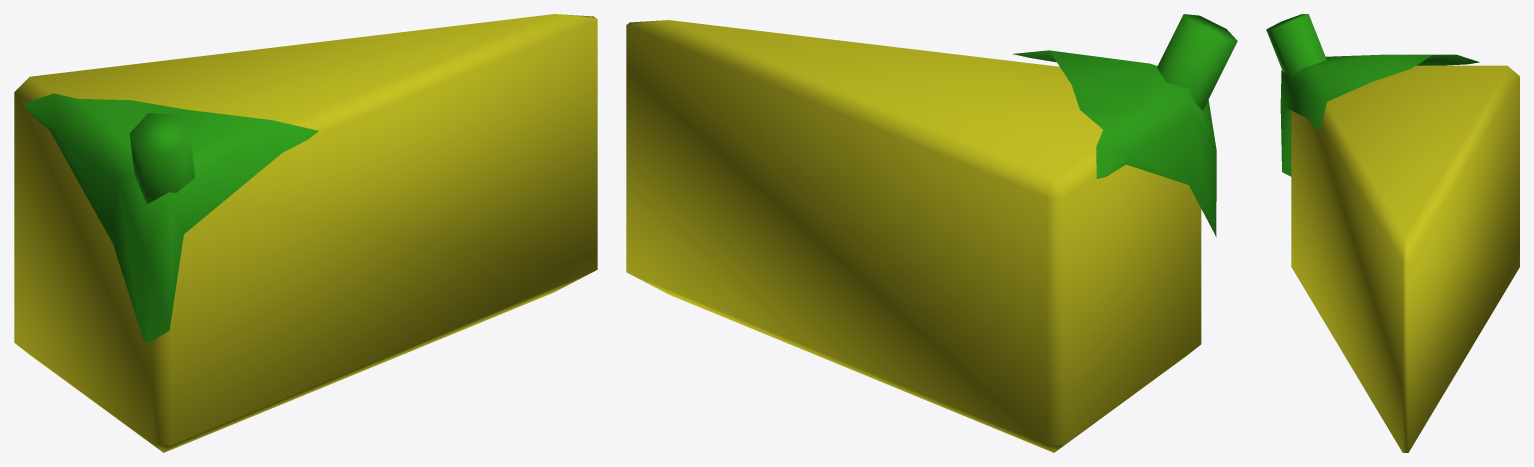
Rendered from cheese_fruit.glb.
The picture shows the model from 3 angles, left to right: view 1: azimuth 30°, elevation 25°; view 2: azimuth 150°, elevation 25°; view 3: azimuth 270°, elevation 25°; orthographic projection. The views are drawn at different scales.
Visible parts, largest first — view 1: CheeseWedge-rigid, LeavesWrap, Stem; view 2: CheeseWedge-rigid, LeavesWrap, Stem; view 3: CheeseWedge-rigid, LeavesWrap, Stem.
Boxes of the visible parts, x1,y1,x2,y2 form: CheeseWedge-rigid: (14, 14, 597, 452); LeavesWrap: (23, 93, 318, 343); Stem: (129, 113, 194, 203); CheeseWedge-rigid: (626, 20, 1201, 452); LeavesWrap: (1013, 50, 1216, 237); Stem: (1157, 14, 1237, 110); CheeseWedge-rigid: (1291, 65, 1519, 452); LeavesWrap: (1280, 54, 1479, 176); Stem: (1266, 14, 1326, 76).
Bounding box in the file's own units: 0.4033 × 0.2446 × 0.2168.
